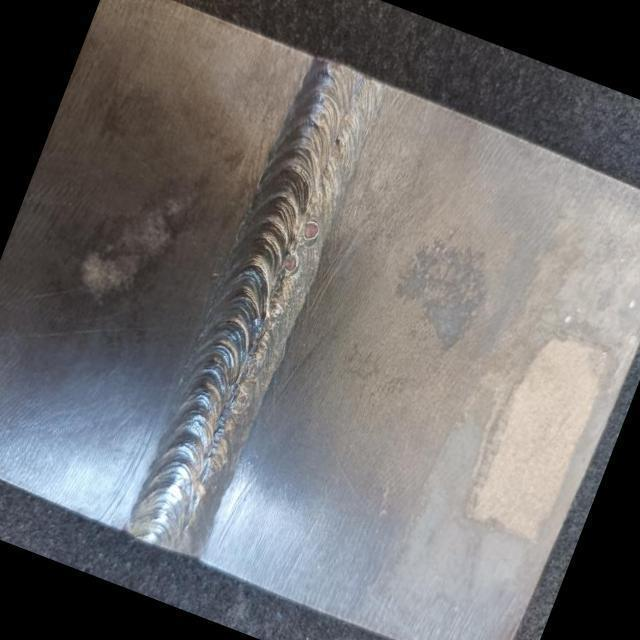defect: (300, 215, 324, 244), (277, 248, 300, 277), (246, 353, 266, 378), (230, 386, 250, 410), (331, 132, 345, 148)
